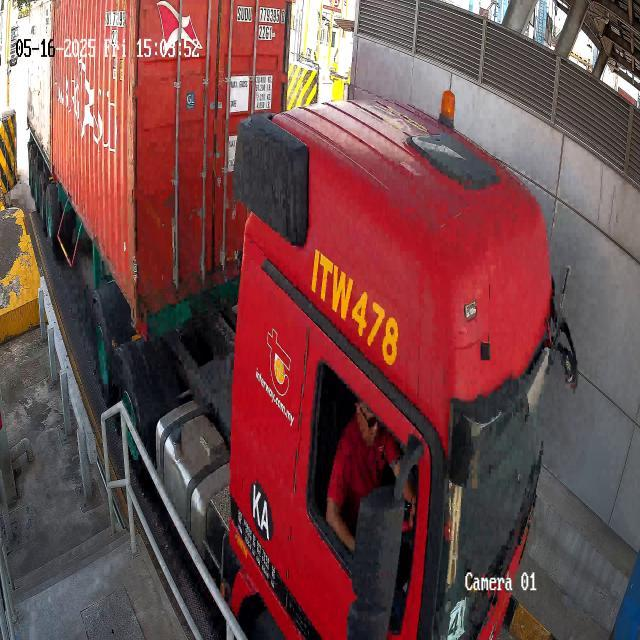ISO: (251, 27, 278, 45)
container_number: (235, 3, 285, 27)
